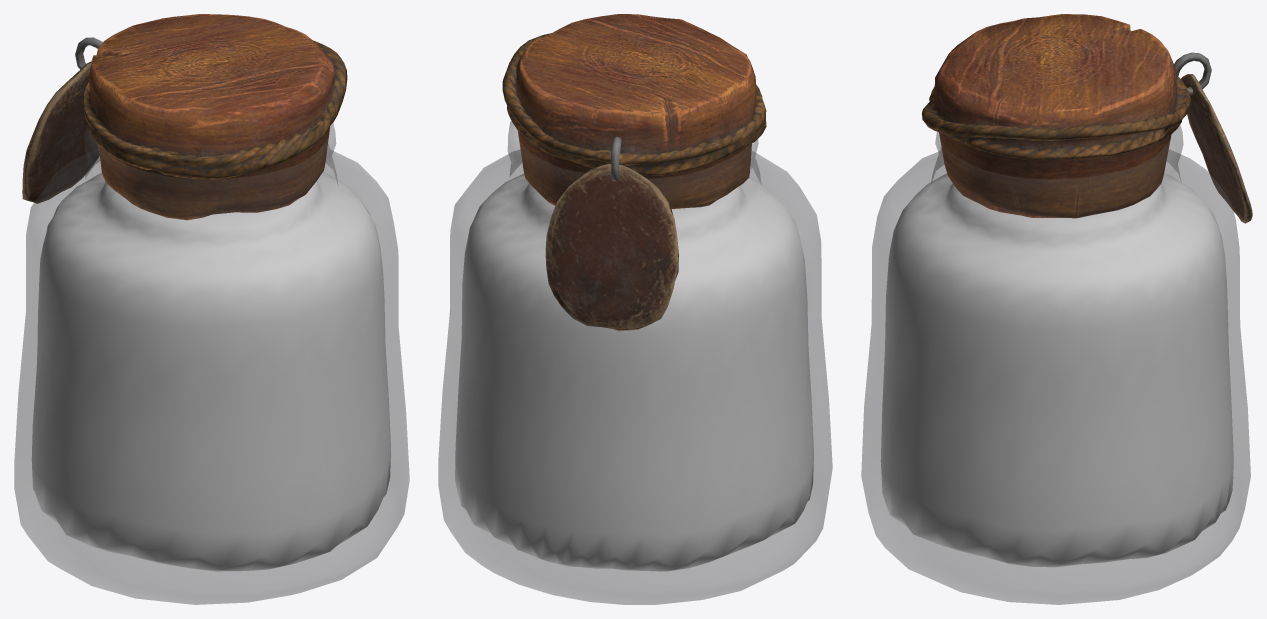
Rendered from potion-bottle.glb.
3 renders of one model, left to right at view 1: azimuth 30°, elevation 25°; view 2: azimuth 150°, elevation 25°; view 3: azimuth 270°, elevation 25°, orthographic.
Visible parts, largest first — view 1: Glass Outer, Fluid, Cap; view 2: Glass Outer, Fluid, Cap; view 3: Glass Outer, Fluid, Cap.
Boxes of the visible parts, x1,y1,x2,y2 form: Glass Outer: (14,123,409,604); Fluid: (31,171,390,571); Cap: (22,14,347,220); Glass Outer: (438,121,832,604); Fluid: (455,173,813,571); Cap: (502,14,766,331); Glass Outer: (861,125,1250,604); Fluid: (880,173,1233,567); Cap: (922,14,1252,223).
Bounding box in the file's own units: 2.35 × 3.11 × 2.31.
3 materials, 3 textured.
